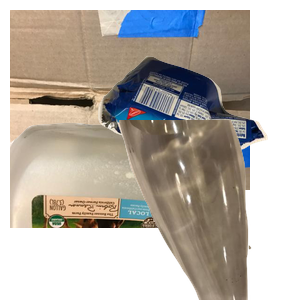cardboard: (10, 10, 250, 190)
glass: (115, 120, 300, 300)
plastic: (10, 120, 220, 300)
trash: (95, 53, 300, 195)
